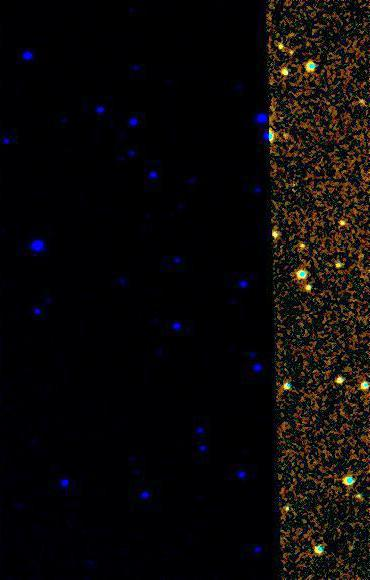star: (279, 37, 309, 67)
